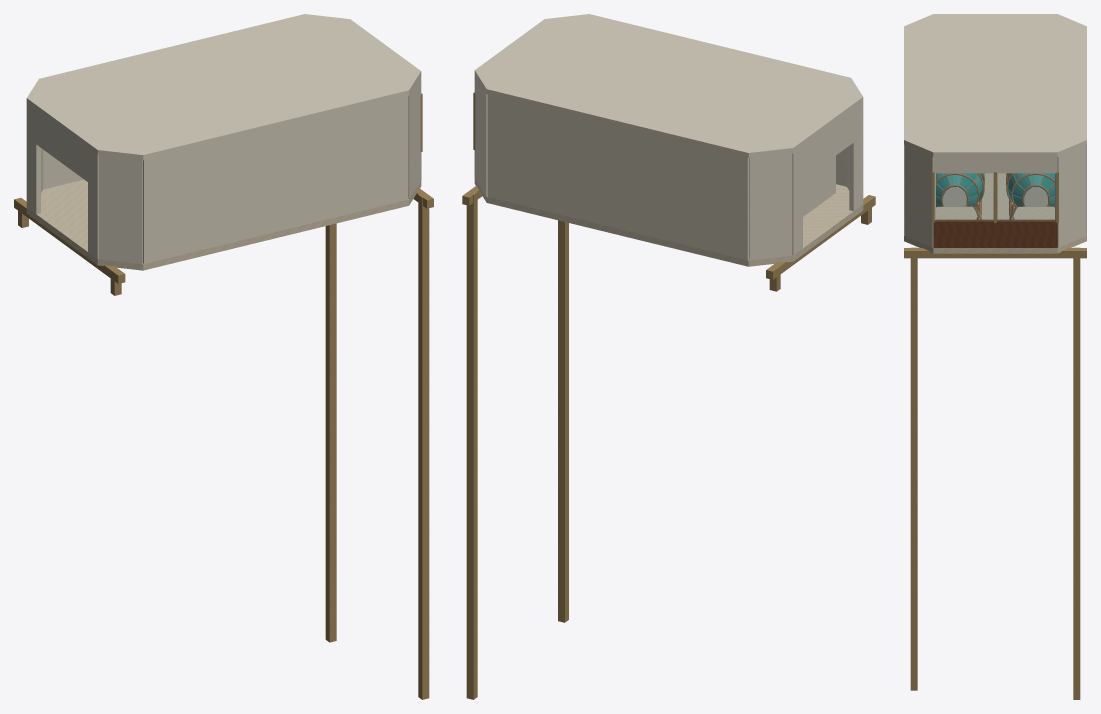
File: D04_STARBOARD_AFT_HOME_987_r001.glb
3 views of the same model, side by side, from view 1: azimuth 30°, elevation 25°; view 2: azimuth 150°, elevation 25°; view 3: azimuth 270°, elevation 25° (orthographic). The views are drawn at different scales.
Visible parts, largest first — view 1: SA987_D04H976_Roof, SA987_D04H976_Shell_7, SA987_D04H976_Pier_1, SA987_D04H976_Floor, SA987_D04H976_Pier_2, SA987_D04H976_Shell_6, SA987_D04H976_EntryHeader, SA987_D04H976_EntryWall_1, SA987_D04H976_Shell_0, SA987_D04H976_EntryWall_0, SA987_D04H976_Shell_3, SA987_D04H976_Long_-46.349999999999994; view 2: SA987_D04H976_Roof, SA987_D04H976_Shell_3, SA987_D04H976_Pier_2, SA987_D04H976_Shell_4, SA987_D04H976_Pier_1, SA987_D04H976_Floor, SA987_D04H976_EntryHeader, SA987_D04H976_EntryWall_0, SA987_D04H976_Shell_2, SA987_D04H976_BathDogleg, SA987_D04H976_EntryWall_1, SA987_D04H976_Long_-46.349999999999994; view 3: SA987_D04H976_Roof, SA987_D04H976_GardenGlass, SA987_D04H976_GardenDado, SA987_D04H976_Pier_2, SA987_D04H976_Pier_1, SA987_D04H976_Floor, SA987_D04H976_Shell_0, SA987_D04H976_Shell_2, SA987_D04H976_GardenHead, SA987_D04H976_Long_-58.650000000000006, SA987_ReservedCocoon_1__Rear ivory acoustic diffuser, SA987_ReservedCocoon_2__Rear ivory acoustic diffuser.
Boxes of the visible parts, left/top/right/bottom form: SA987_D04H976_Roof: left=26, top=14, right=421, bottom=160; SA987_D04H976_Shell_7: left=143, top=96, right=407, bottom=263; SA987_D04H976_Pier_1: left=418, top=194, right=429, bottom=699; SA987_D04H976_Floor: left=26, top=179, right=421, bottom=270; SA987_D04H976_Pier_2: left=325, top=223, right=336, bottom=642; SA987_D04H976_Shell_6: left=98, top=155, right=142, bottom=264; SA987_D04H976_EntryHeader: left=36, top=110, right=87, bottom=181; SA987_D04H976_EntryWall_1: left=26, top=103, right=40, bottom=214; SA987_D04H976_Shell_0: left=408, top=77, right=420, bottom=198; SA987_D04H976_EntryWall_0: left=88, top=148, right=98, bottom=258; SA987_D04H976_Shell_3: left=43, top=150, right=83, bottom=189; SA987_D04H976_Long_-46.349999999999994: left=14, top=197, right=125, bottom=283; SA987_D04H976_Roof: left=474, top=14, right=863, bottom=158; SA987_D04H976_Shell_3: left=487, top=94, right=748, bottom=260; SA987_D04H976_Pier_2: left=466, top=191, right=477, bottom=699; SA987_D04H976_Shell_4: left=749, top=153, right=792, bottom=260; SA987_D04H976_Pier_1: left=558, top=220, right=568, bottom=622; SA987_D04H976_Floor: left=474, top=178, right=863, bottom=266; SA987_D04H976_EntryHeader: left=803, top=109, right=853, bottom=179; SA987_D04H976_EntryWall_0: left=849, top=102, right=863, bottom=211; SA987_D04H976_Shell_2: left=475, top=76, right=487, bottom=196; SA987_D04H976_BathDogleg: left=803, top=156, right=835, bottom=216; SA987_D04H976_EntryWall_1: left=792, top=146, right=802, bottom=255; SA987_D04H976_Long_-46.349999999999994: left=766, top=195, right=875, bottom=279; SA987_D04H976_Roof: left=904, top=14, right=1086, bottom=156; SA987_D04H976_GardenGlass: left=936, top=173, right=1055, bottom=220; SA987_D04H976_GardenDado: left=933, top=219, right=1057, bottom=247; SA987_D04H976_Pier_2: left=1073, top=247, right=1080, bottom=699; SA987_D04H976_Pier_1: left=910, top=247, right=917, bottom=690; SA987_D04H976_Floor: left=904, top=173, right=1086, bottom=253; SA987_D04H976_Shell_0: left=904, top=145, right=935, bottom=247; SA987_D04H976_Shell_2: left=1055, top=145, right=1086, bottom=247; SA987_D04H976_GardenHead: left=933, top=157, right=1057, bottom=173; SA987_D04H976_Long_-58.650000000000006: left=904, top=248, right=1086, bottom=258; SA987_ReservedCocoon_1__Rear ivory acoustic diffuser: left=943, top=187, right=966, bottom=206; SA987_ReservedCocoon_2__Rear ivory acoustic diffuser: left=1024, top=187, right=1047, bottom=206.
Bounding box in the file's own units: 12.92 × 23.89 × 7.2.
Materials: 45 (21 with a texture image).
